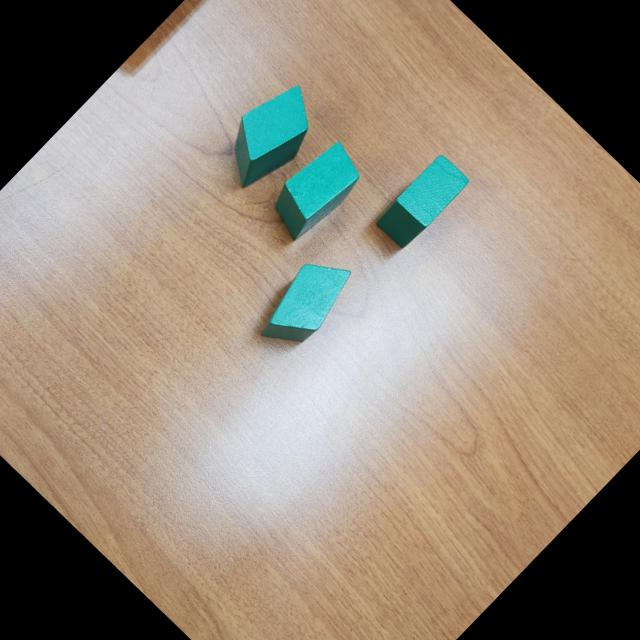green: (205, 72, 332, 200), (248, 245, 362, 362), (260, 134, 370, 246), (372, 151, 472, 253)
